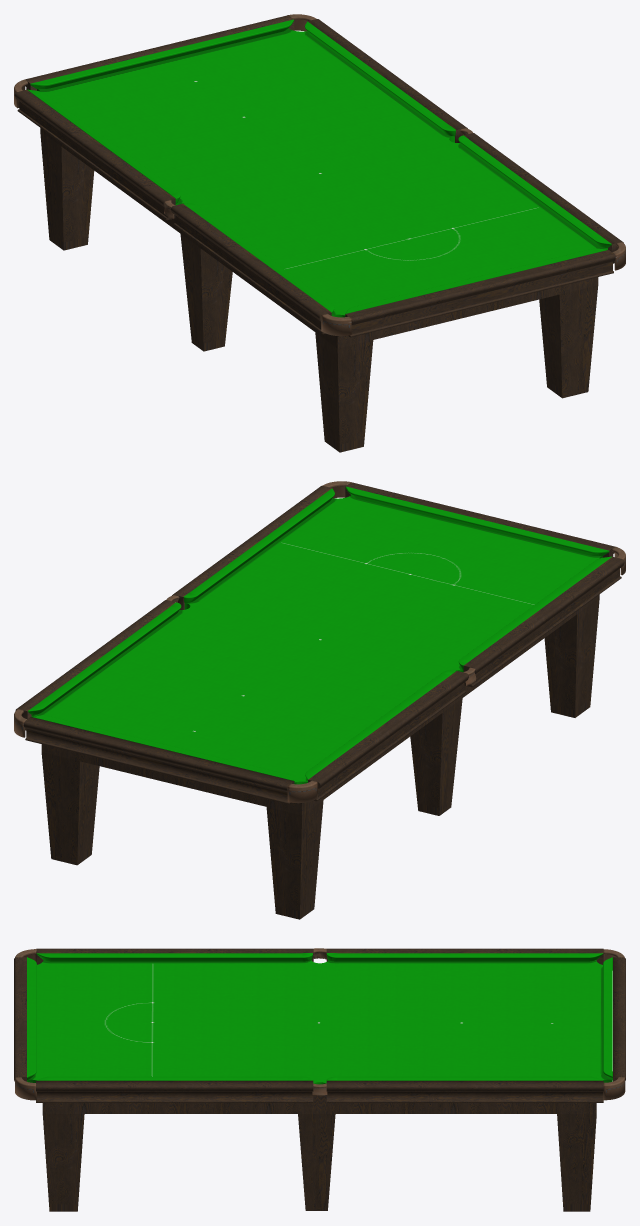
The model's file is snooker_generic.glb.
3 renders of one model, top to bottom at view 1: azimuth 30°, elevation 25°; view 2: azimuth 150°, elevation 25°; view 3: azimuth 270°, elevation 25°, orthographic. The views are drawn at different scales.
Parts seen in each view (by area): view 1: Slate, Legs, Board18, Board06, Board03, Cusion09, Cushion12, Cushion15, Board09, Board12, Board15, Cusion18 (+3 smaller); view 2: Slate, Legs, Board09, Board03, Board06, Cusion18, Cushion15, Cushion12, Board18, Board12, Board15, Cusion09 (+3 smaller); view 3: Slate, Legs, Board15, Board12, Cushion06, Cushion03, Board03, Board06, Board18, Board09, Cushion12, Cushion15 (+4 smaller).
Boxes of the visible parts, x1,y1,x2,y2 form: Slate: [37, 28, 607, 317]; Legs: [40, 128, 598, 452]; Board18: [345, 250, 615, 337]; Board06: [14, 89, 175, 220]; Board03: [170, 203, 331, 334]; Cusion09: [30, 19, 294, 88]; Cushion12: [304, 21, 455, 136]; Cushion15: [458, 135, 611, 247]; Board09: [25, 15, 294, 90]; Board12: [307, 19, 467, 142]; Board15: [464, 133, 623, 263]; Cusion18: [345, 248, 607, 315]; Slate: [31, 495, 602, 784]; Legs: [41, 594, 599, 919]; Board09: [23, 717, 294, 804]; Board03: [463, 556, 624, 687]; Board06: [308, 671, 468, 801]; Cusion18: [345, 486, 609, 555]; Cushion15: [183, 488, 334, 602]; Cushion12: [28, 602, 181, 714]; Board18: [345, 482, 614, 557]; Board12: [15, 600, 175, 730]; Board15: [172, 486, 332, 609]; Cusion09: [31, 715, 294, 782]; Slate: [27, 960, 612, 1084]; Legs: [42, 1095, 596, 1211]; Board15: [36, 1080, 313, 1102]; Board12: [326, 1080, 603, 1102]; Cushion06: [326, 953, 603, 961]; Cushion03: [36, 953, 312, 961]; Board03: [36, 948, 313, 964]; Board06: [326, 948, 603, 964]; Board18: [14, 957, 26, 1081]; Board09: [613, 957, 625, 1081]; Cushion12: [326, 1076, 602, 1080]; Cushion15: [37, 1076, 312, 1080].
Bounding box in the file's own units: 2.07 × 0.9665 × 3.86.
Materials: 3 (3 with a texture image).
